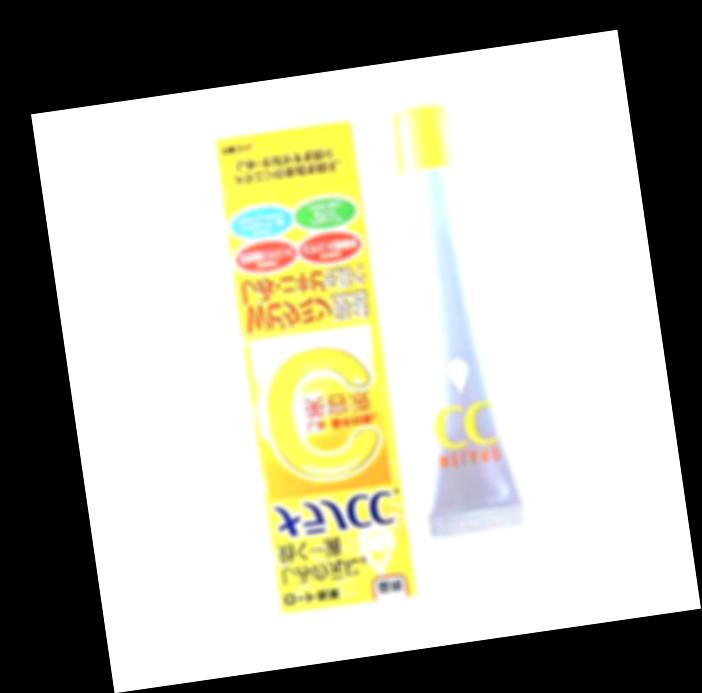cosmetic: (365, 100, 526, 540)
